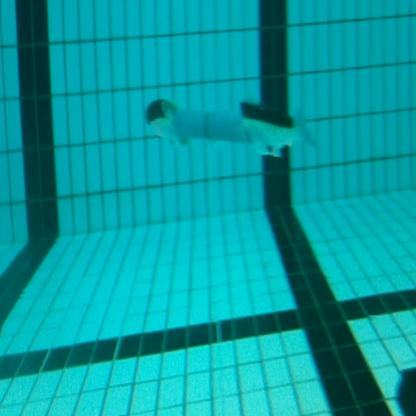tail: (238, 96, 318, 159)
